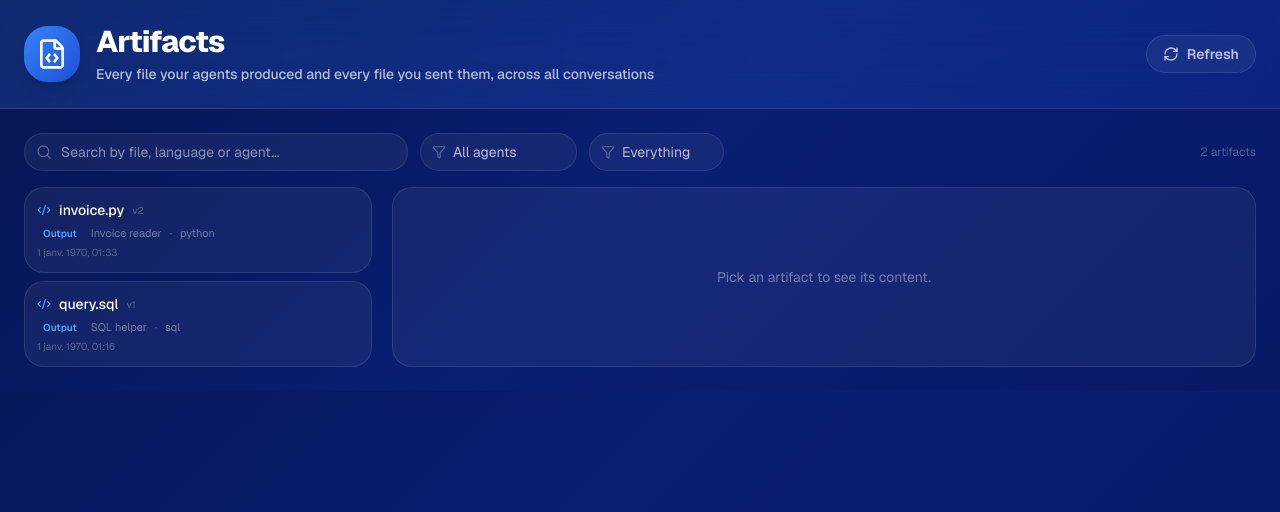
Test: ArtifactsLibrary › runs a code artifact and shows its output
Click the text "invoice.py": (92, 210) [59,200,124,220]
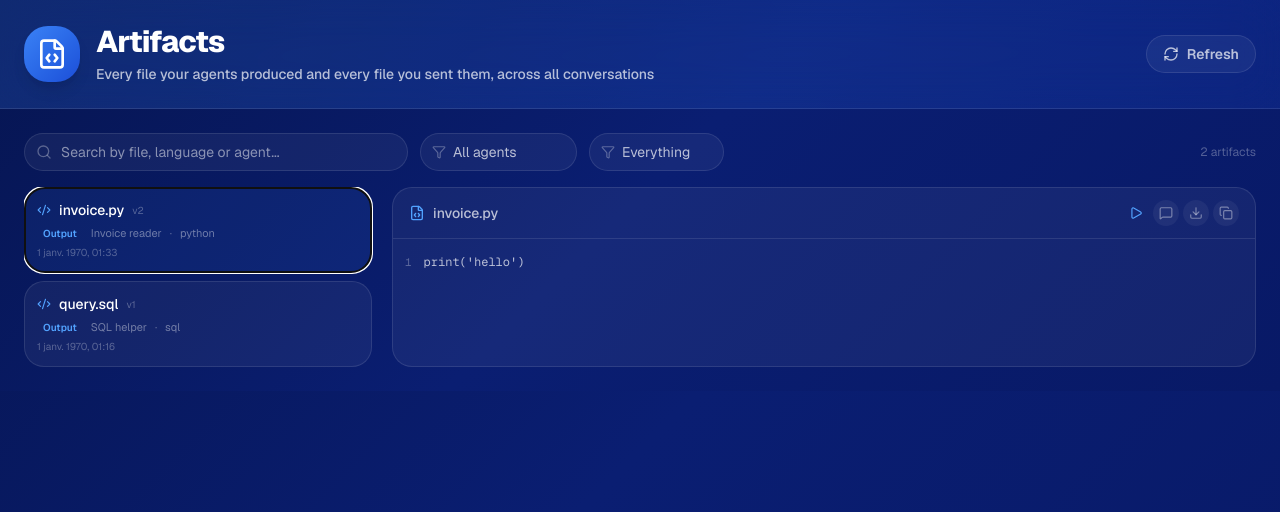
Click the button titled "Run code": (1136, 213) [1123,200,1149,226]
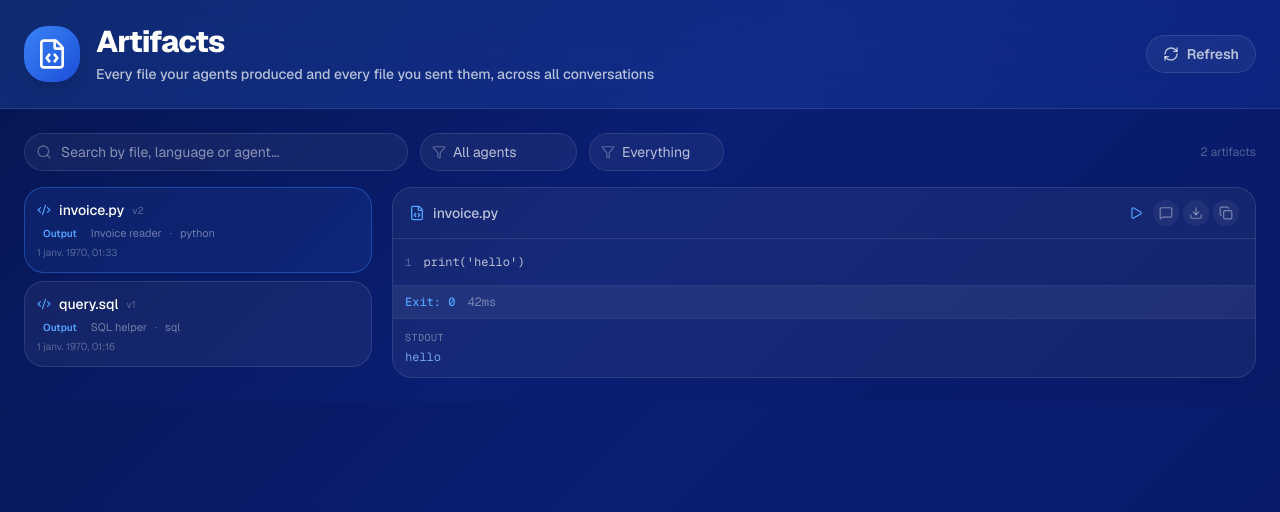
Now the text "Exit: 0" is shown, box [405,294,455,310]
Now the text "stdout" is shown, box [405,331,444,344]
Now the text "42ms" is shown, box [467,294,496,310]
